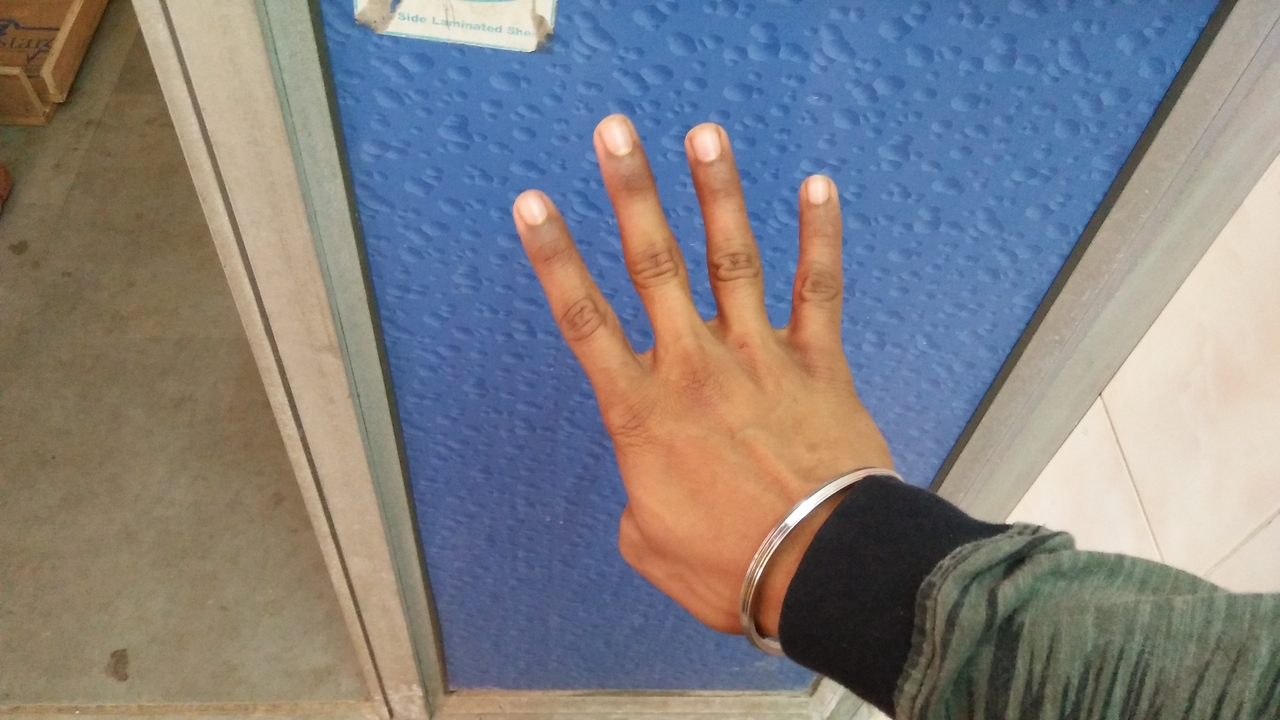fingertip: (502, 178, 568, 242), (582, 104, 650, 166), (676, 112, 746, 172), (792, 162, 848, 218)
